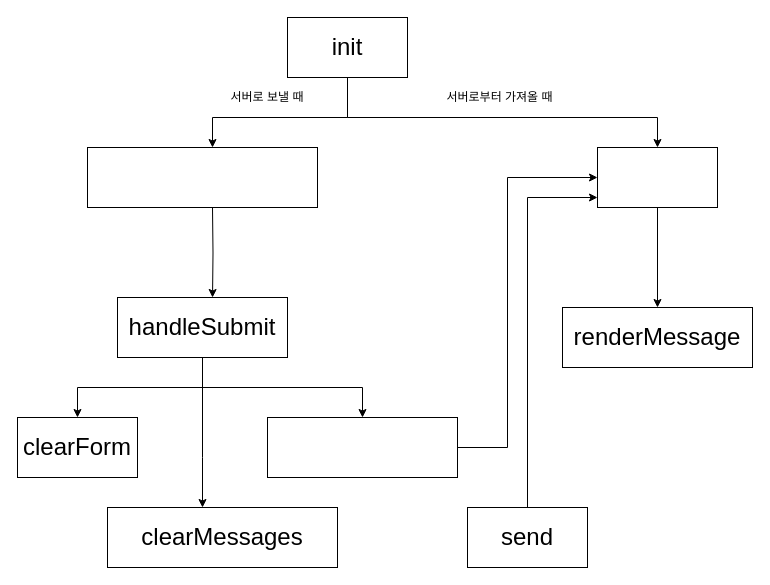
This 770x585 diagram has some shape labels left out. Each missing label, with the centre of its shape:
"addEventHandlers" belongs at (202,177).
"fetch" belongs at (657,177).
"fetchAndRender" belongs at (362,447).
